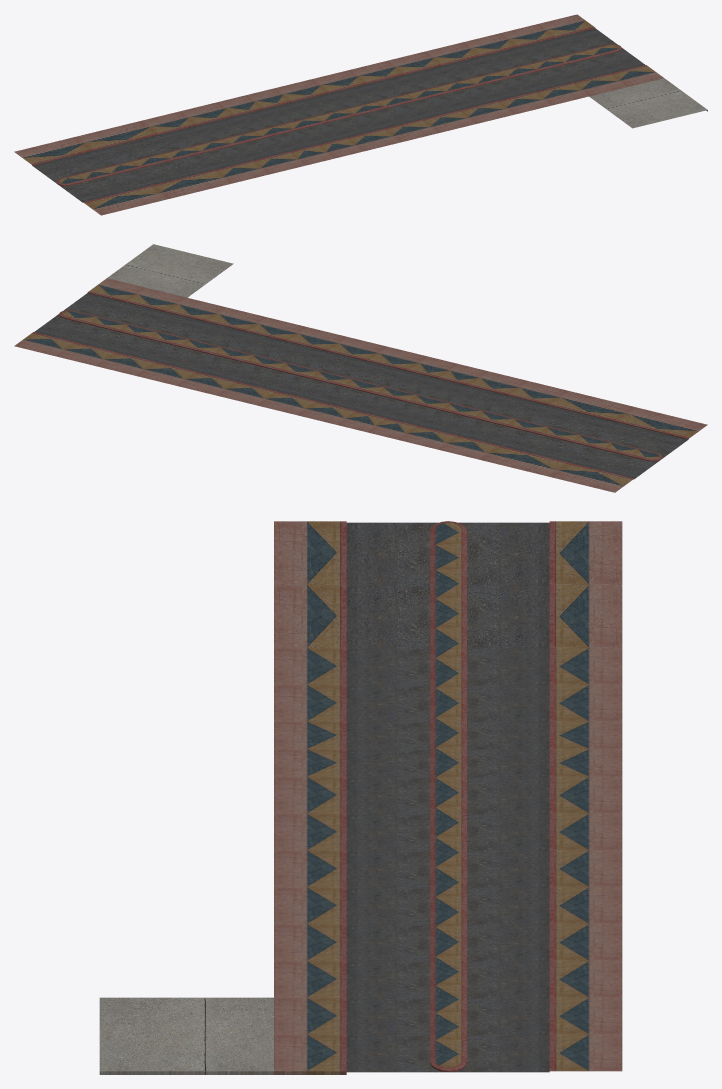
File: vegasnroad08202.obj
The picture shows the model from 3 angles, top to bottom: view 1: azimuth 30°, elevation 25°; view 2: azimuth 150°, elevation 25°; view 3: azimuth 270°, elevation 25°; orthographic projection. The views are drawn at different scales.
Visible parts, largest first — view 1: VegasNroad08202; view 2: VegasNroad08202; view 3: VegasNroad08202.
Part boxes in pixels (bbox=[...]): VegasNroad08202: bbox=[14, 14, 707, 215]; VegasNroad08202: bbox=[14, 244, 707, 492]; VegasNroad08202: bbox=[99, 521, 622, 1074].
Size of the model in its own units: 149 by 0.6066 by 60.
Materials: 3 (3 with a texture image).
